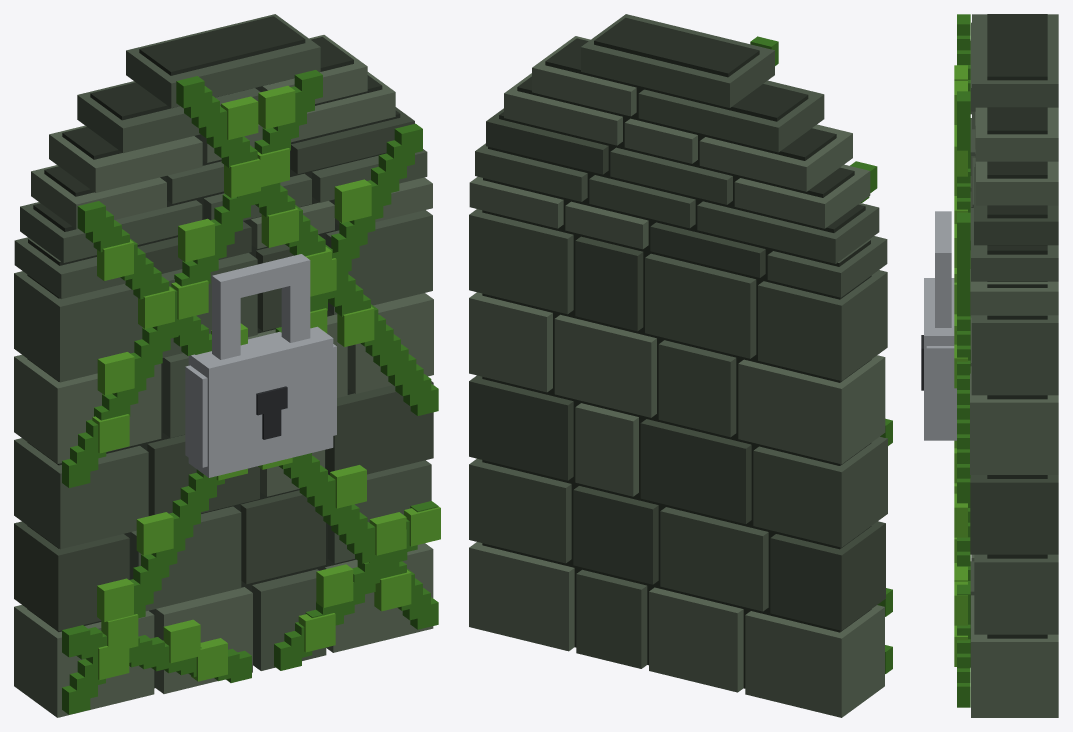
File: Lobby_PortalLock.glb
3 views of the same model, side by side, from view 1: azimuth 30°, elevation 25°; view 2: azimuth 150°, elevation 25°; view 3: azimuth 270°, elevation 25° (orthographic). The views are drawn at different scales.
Visible parts, largest first — view 1: lock_stones_lock_stone, lock_stones_lock_stone_light, lock_vines, lock_leaves, lock_stones_lock_stone_dark, padlock_body, lock_mortar, padlock_shackle, padlock_keyhole; view 2: lock_stones_lock_stone, lock_stones_lock_stone_light, lock_stones_lock_stone_dark, lock_mortar, lock_vines; view 3: lock_stones_lock_stone_light, lock_stones_lock_stone, lock_mortar, lock_stones_lock_stone_dark, lock_vines, padlock_body, lock_leaves, padlock_shackle.
Part boxes in pixels (x1,y1,x2,y2): lock_stones_lock_stone: [14, 14, 432, 670]; lock_stones_lock_stone_light: [14, 35, 433, 717]; lock_vines: [62, 70, 438, 714]; lock_leaves: [92, 85, 440, 681]; lock_stones_lock_stone_dark: [14, 107, 433, 631]; padlock_body: [185, 326, 336, 477]; lock_mortar: [27, 16, 400, 688]; padlock_shackle: [212, 254, 310, 359]; padlock_keyhole: [256, 386, 287, 439]; lock_stones_lock_stone: [469, 14, 887, 668]; lock_stones_lock_stone_light: [469, 36, 885, 717]; lock_stones_lock_stone_dark: [469, 108, 885, 630]; lock_mortar: [482, 17, 871, 688]; lock_vines: [750, 36, 892, 673]; lock_stones_lock_stone_light: [970, 41, 1058, 717]; lock_stones_lock_stone: [970, 14, 1058, 667]; lock_mortar: [987, 14, 1047, 638]; lock_stones_lock_stone_dark: [970, 156, 1058, 554]; lock_vines: [957, 14, 970, 707]; padlock_body: [924, 278, 956, 440]; lock_leaves: [954, 65, 967, 666]; padlock_shackle: [935, 211, 951, 327].
Size of the model in its own units: 1.5 by 2.35 by 0.5.
